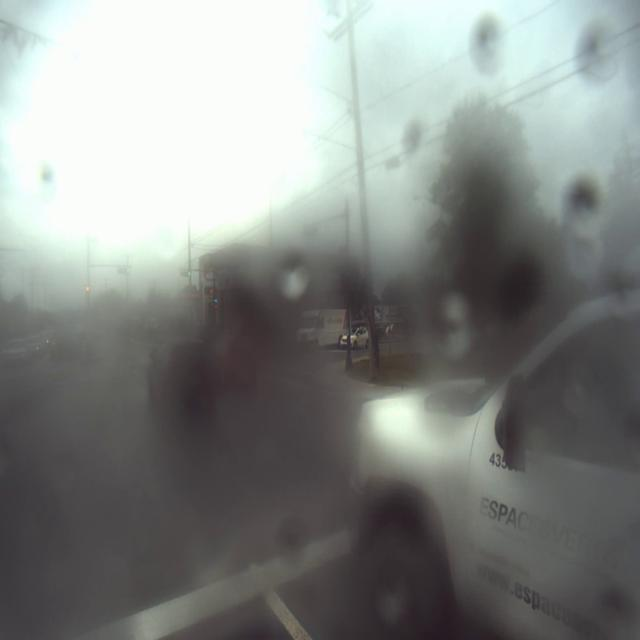car: (142, 337, 221, 408)
